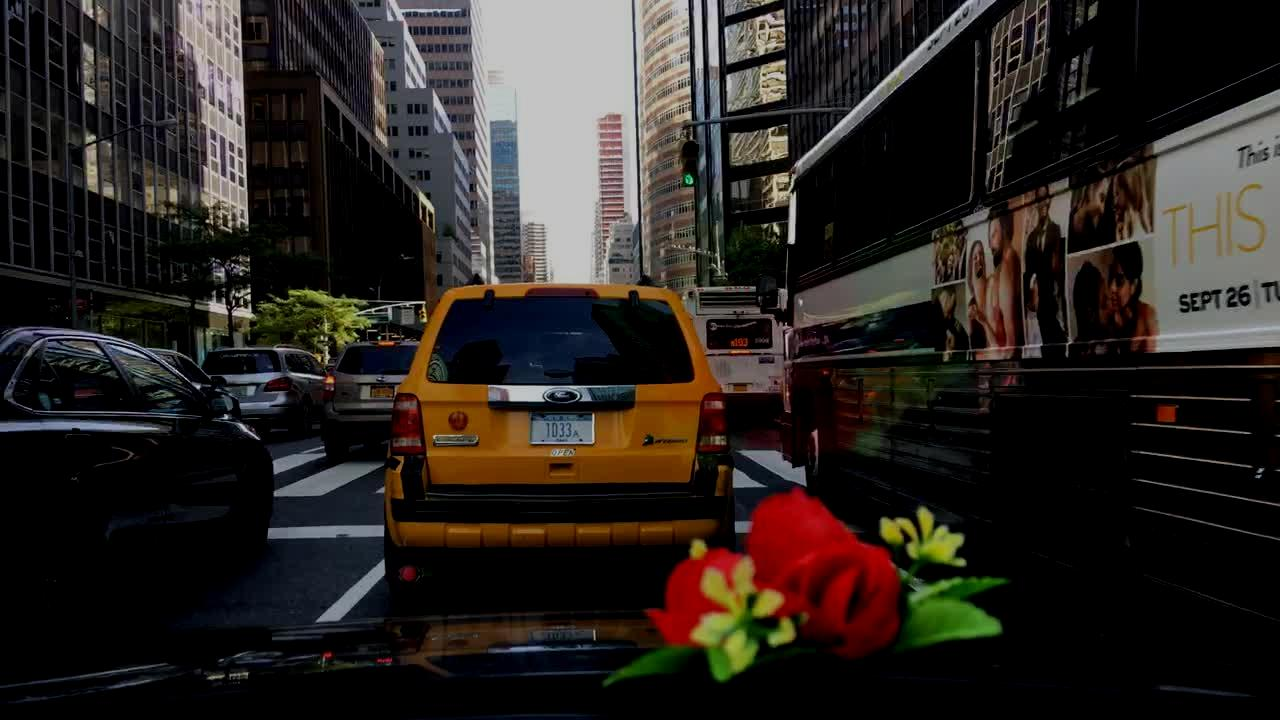ford: (538, 384, 593, 411)
